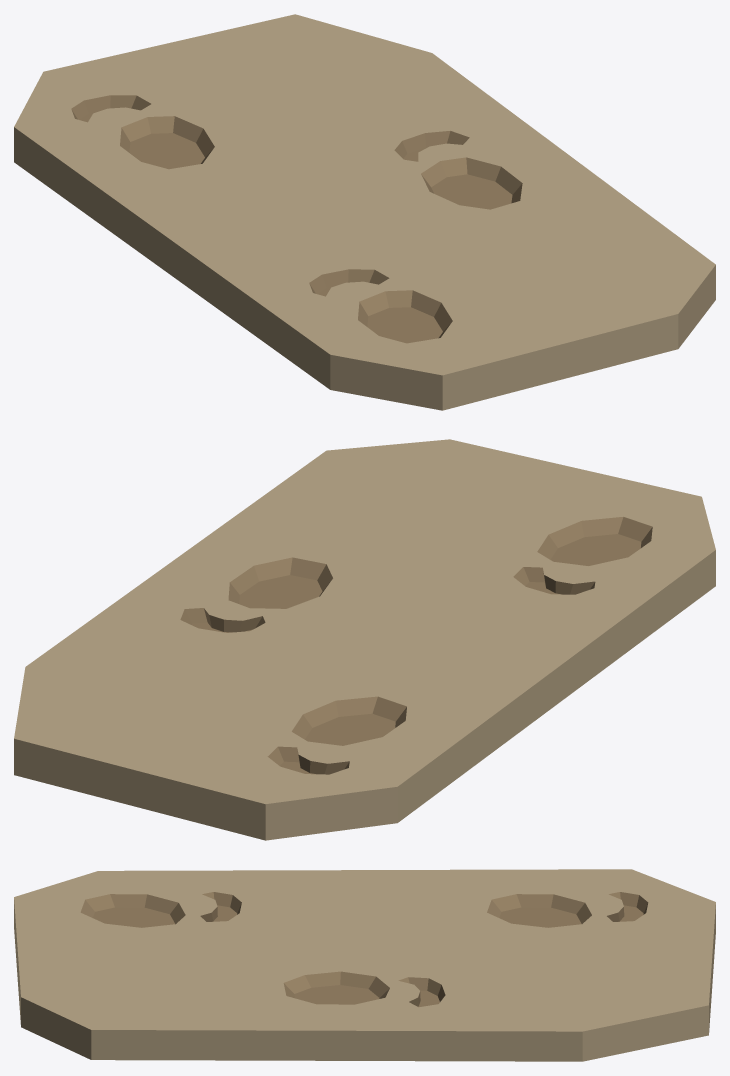
File: sauropod-manus-pes-trackway.glb
The picture shows the model from 3 angles, top to bottom: view 1: azimuth 30°, elevation 25°; view 2: azimuth 150°, elevation 25°; view 3: azimuth 270°, elevation 25°; orthographic projection. The views are drawn at different scales.
Visible parts, largest first — view 1: solid-sediment-with-six-negative-impressions; view 2: solid-sediment-with-six-negative-impressions; view 3: solid-sediment-with-six-negative-impressions.
Part boxes in pixels (x1,y1,x2,y2): solid-sediment-with-six-negative-impressions: (14,14,715,410); solid-sediment-with-six-negative-impressions: (14,439,715,840); solid-sediment-with-six-negative-impressions: (14,869,715,1061).
Size of the model in its own units: 0.2079 by 0.018 by 0.38.
